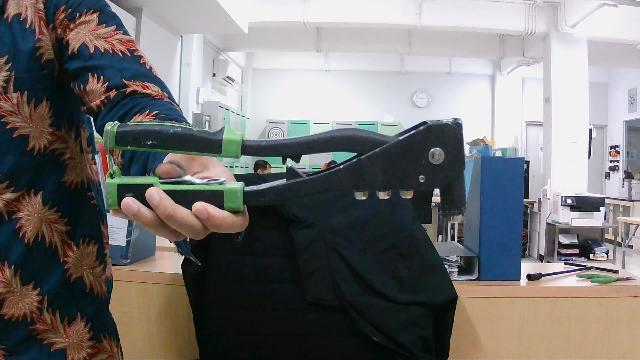tang_rivet: (88, 115, 471, 245)
